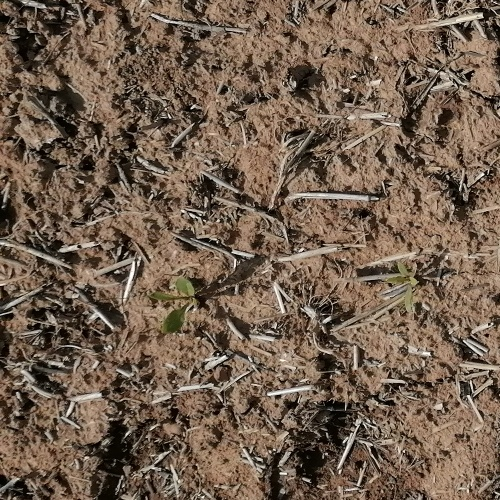beet: (153, 278, 199, 333), (393, 263, 421, 310)
